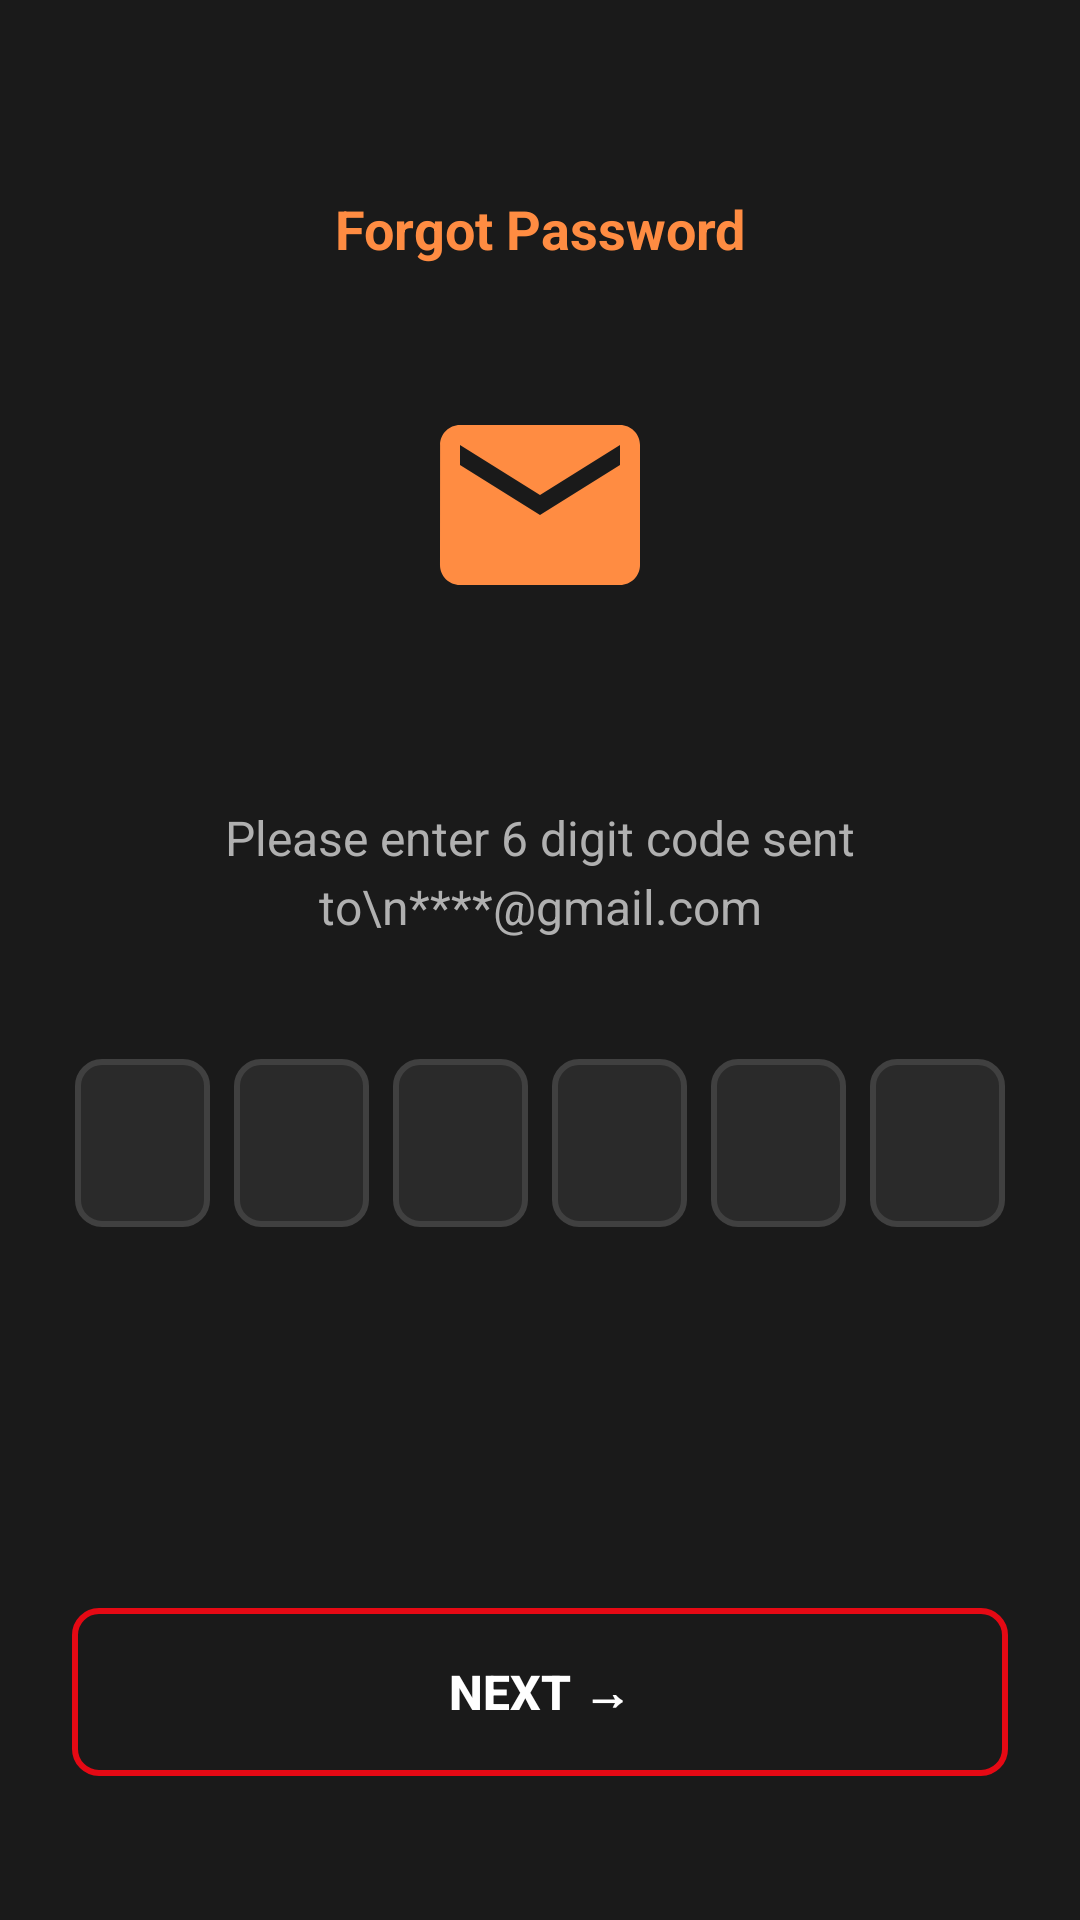

Named icons in this screenshot (1080×1920) and their centers, point (x, y):
mail: point (540, 505)
